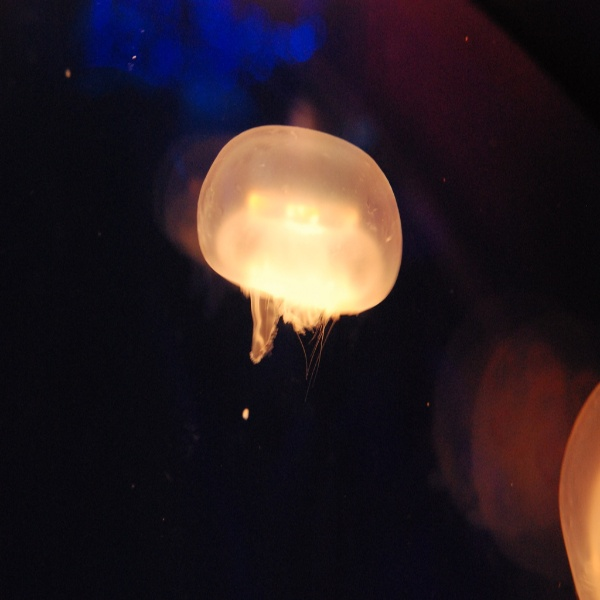Jellyfish: (204, 113, 407, 386)
